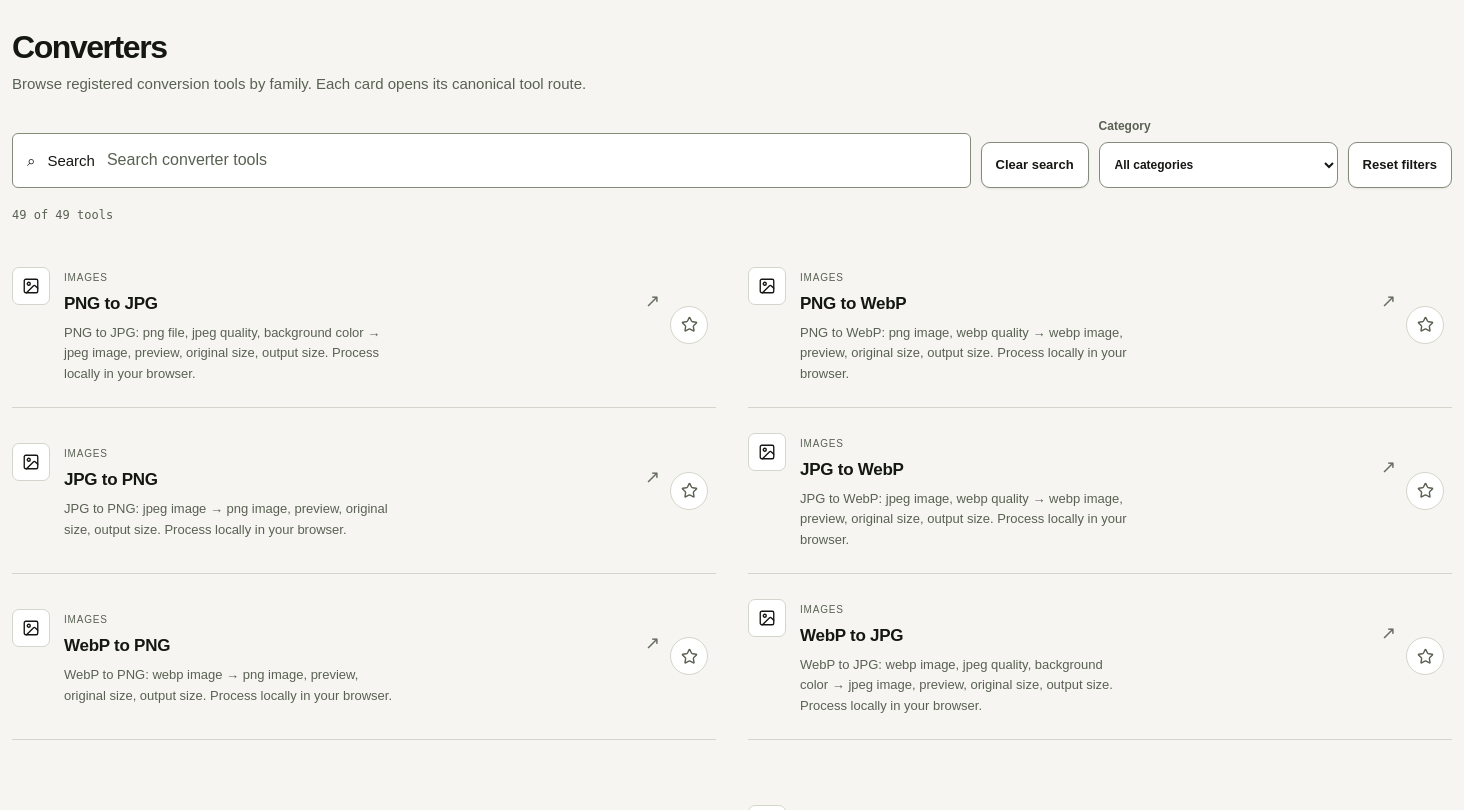
Test: ConvertersCatalog › combines category and search filters and exposes an empty state
Select "image" in the dropdown labelled "Category" at (1218, 165), box [1099,142,1338,188]
Expected: the message shows "of", [26,208,55,222]
Type "does-not-exist" into the field named "Search converter tools" at (531, 161), box [107,141,956,180]
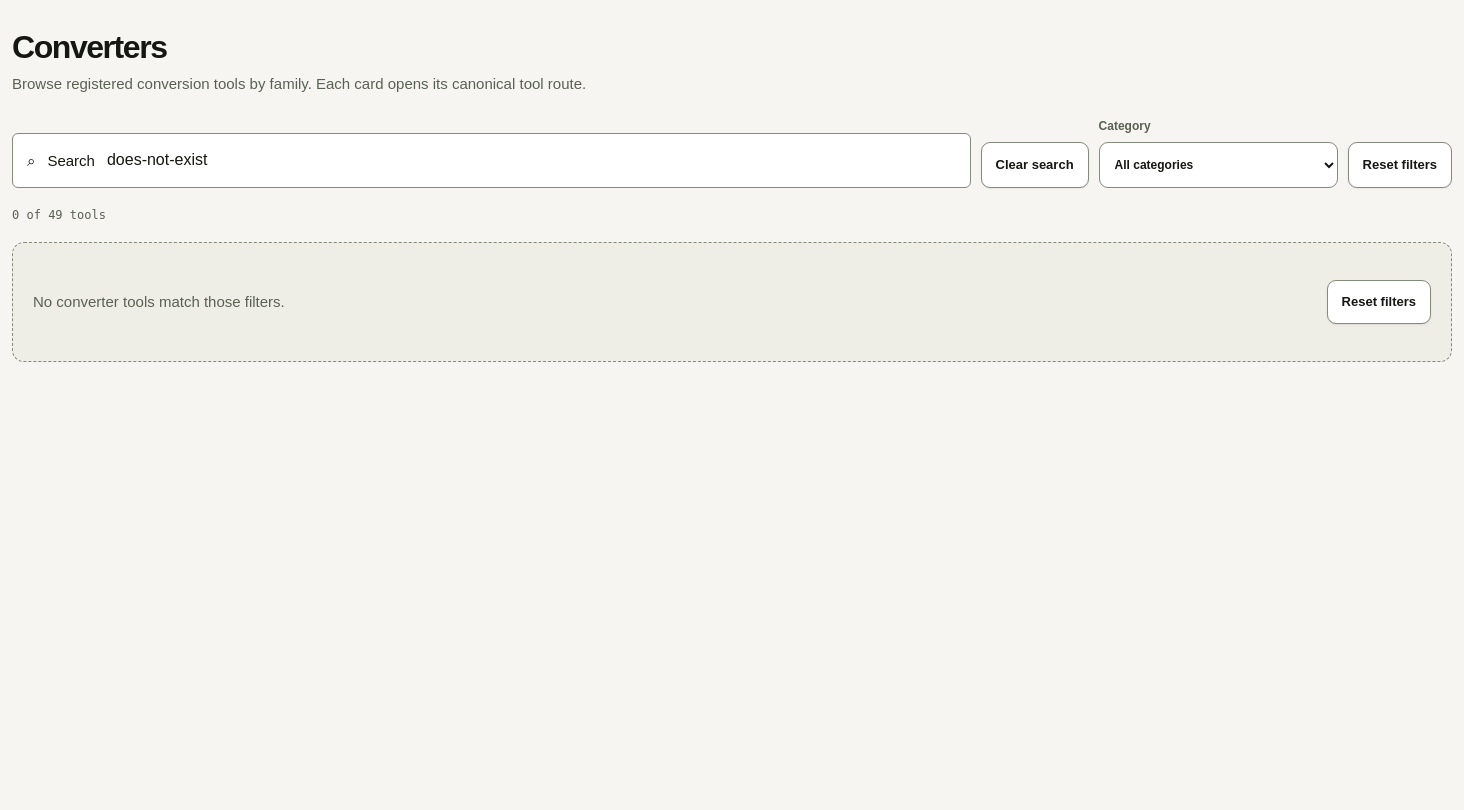
Now the text "No converter tools match those filters." is shown, box [33,290,285,314]
